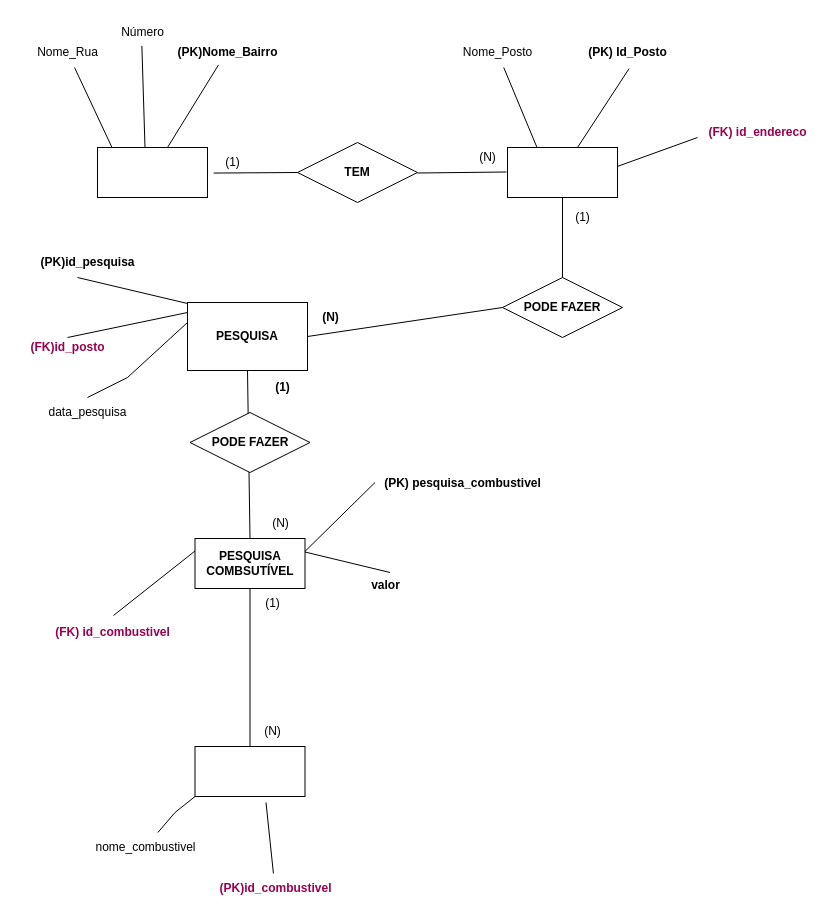
Image size: 834x920. Some labels were removed from this diagram. The shapes that lost their labels are listed below. From the top down, each one's centre as x and y in pixels, then its label:
At (x=152, y=172): "Endereço".
At (x=562, y=172): "Posto".
At (x=249, y=771): "Combustivel".
